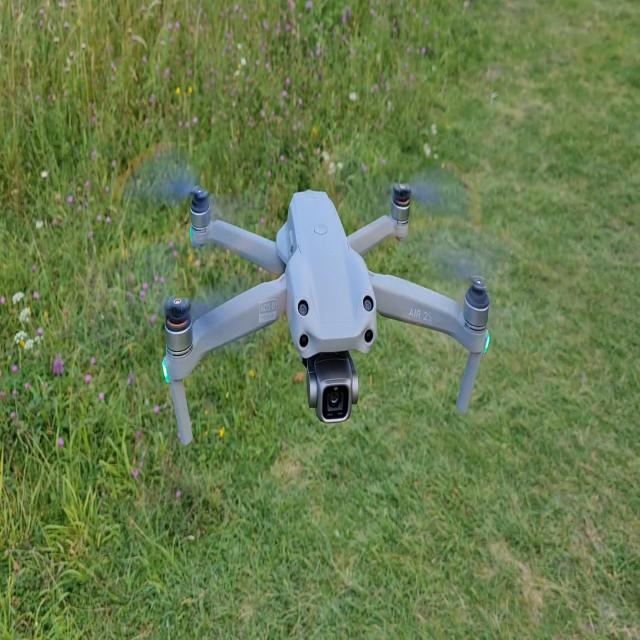drone: (160, 180, 490, 446)
